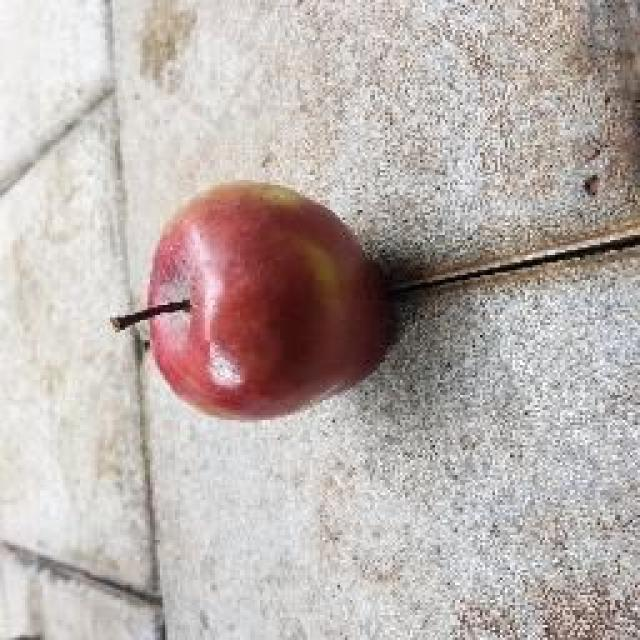Good_Apple: (115, 182, 398, 422)
